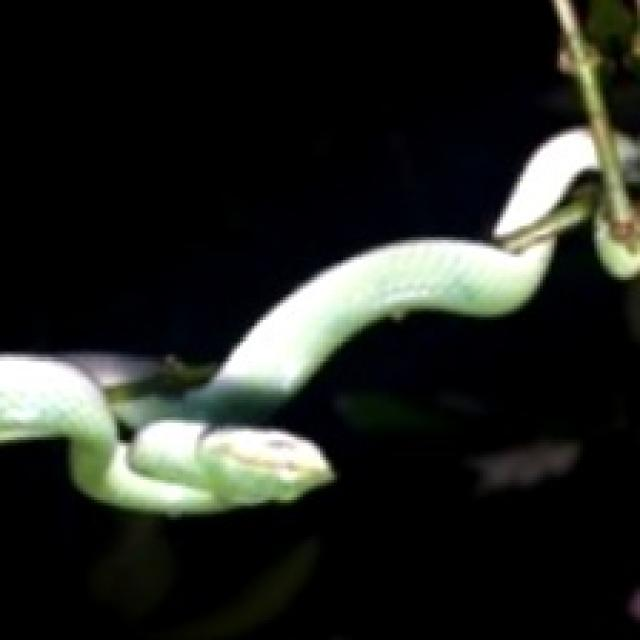north ph temple pitviper: (0, 129, 597, 514), (0, 0, 583, 363)
